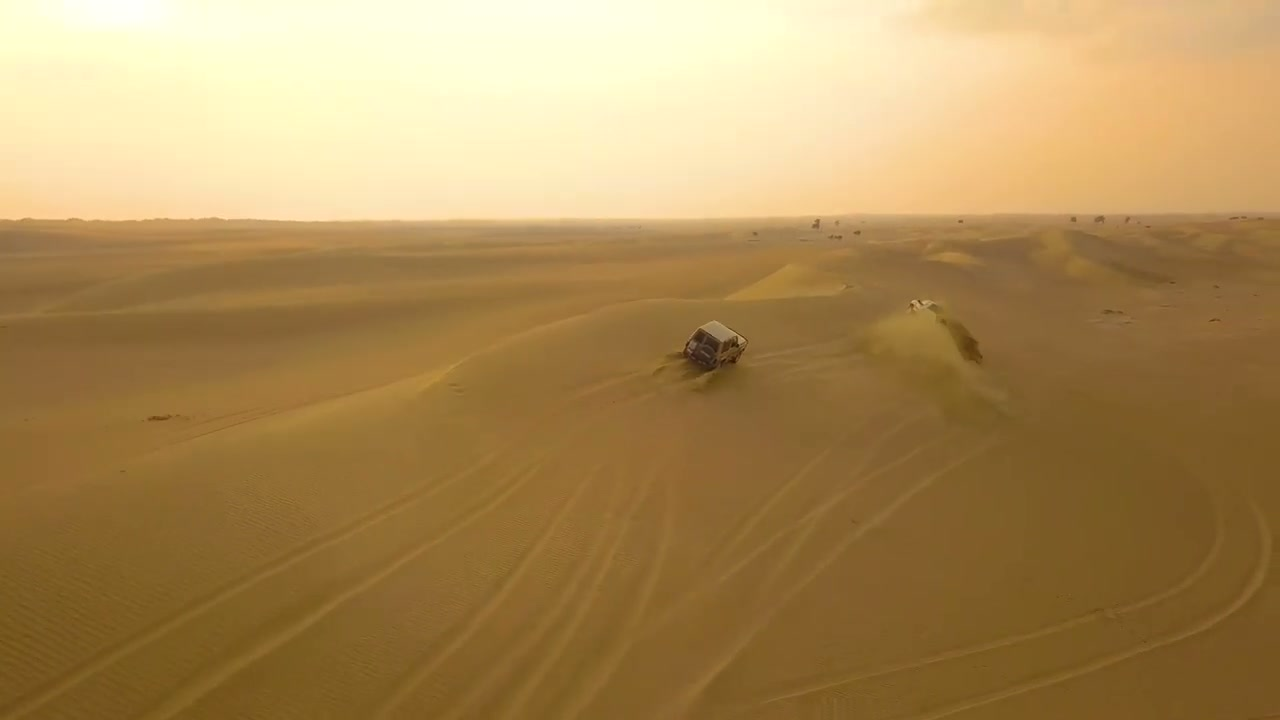vehicle_track: (0, 442, 515, 719), (139, 433, 576, 719), (743, 489, 1225, 710), (660, 432, 1003, 716), (905, 499, 1272, 719), (638, 437, 941, 636), (370, 467, 600, 716), (432, 523, 625, 719), (556, 457, 674, 718), (706, 415, 874, 567)
